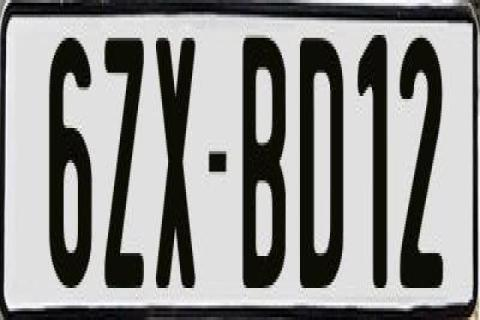0: (47, 32, 93, 288), (400, 32, 442, 294), (356, 29, 387, 285)
B: (239, 32, 285, 288)
D: (296, 32, 346, 296)
X: (156, 32, 202, 300)
Z: (104, 35, 146, 303)
